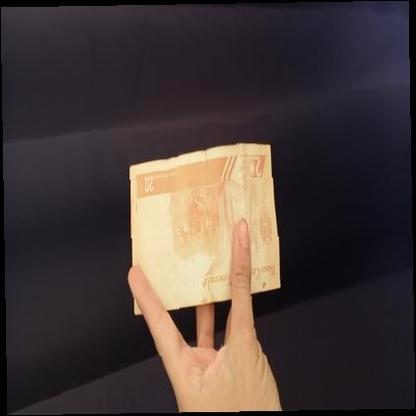twenty-back-vef: (129, 143, 281, 317)
